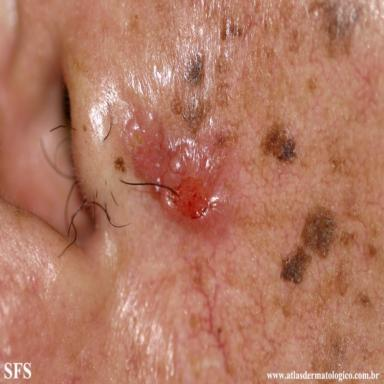basal-cell-carcinoma: (124, 114, 227, 225)
